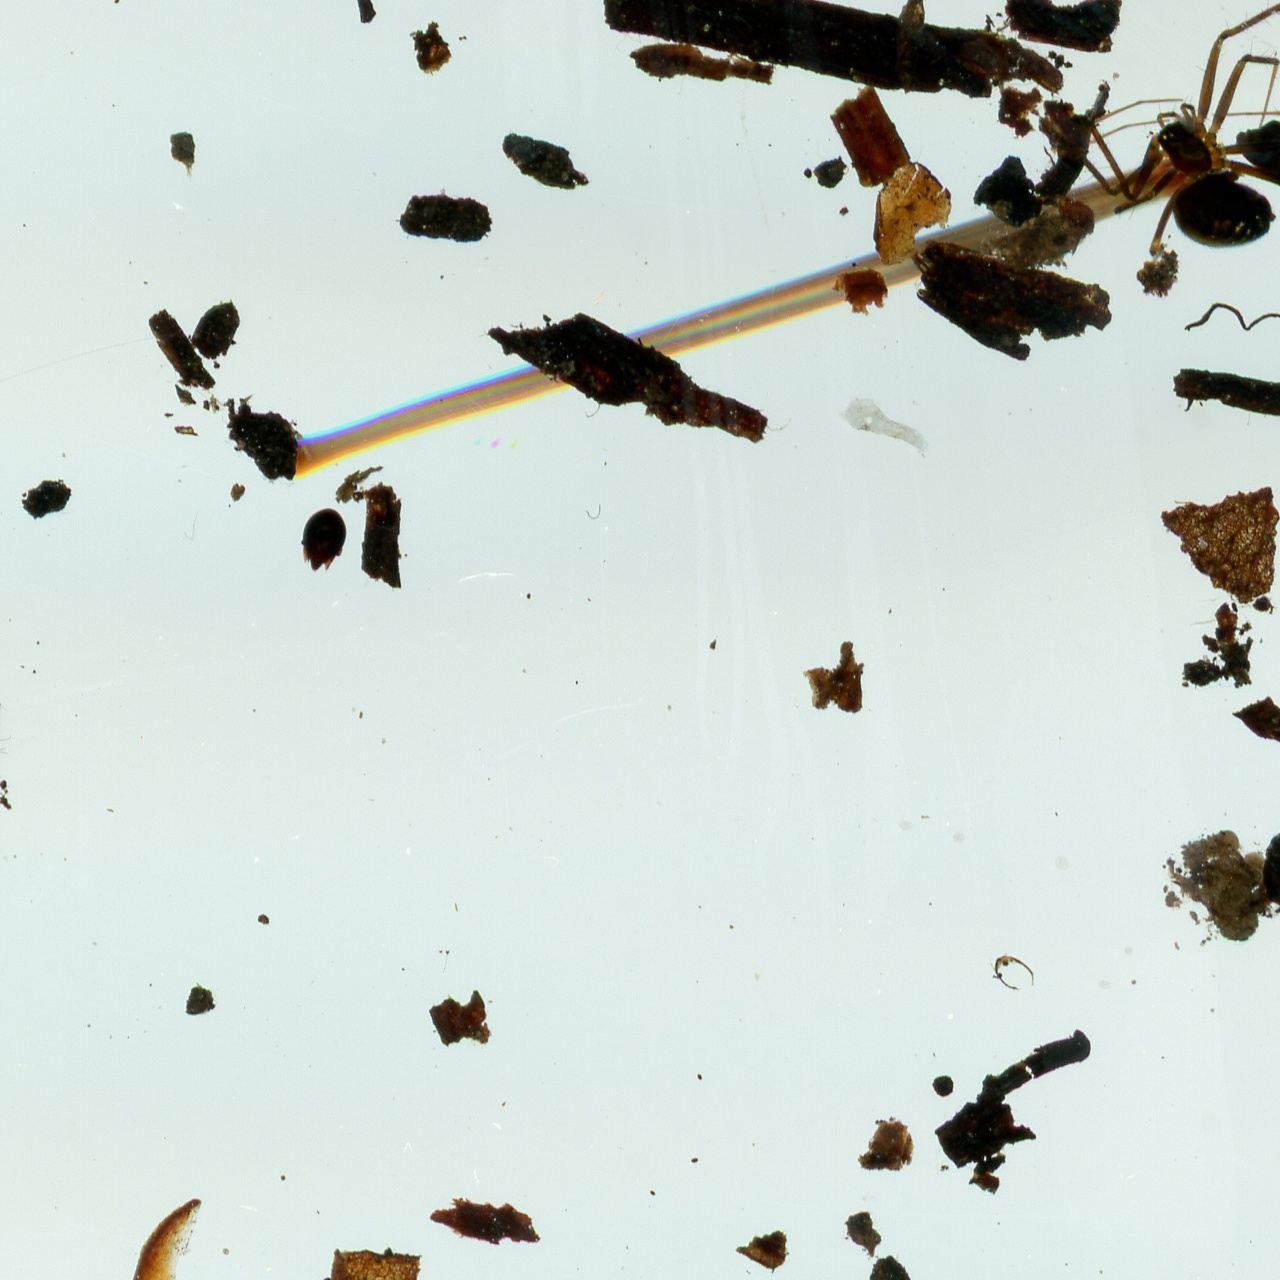arthropod: (1037, 0, 1280, 307)
